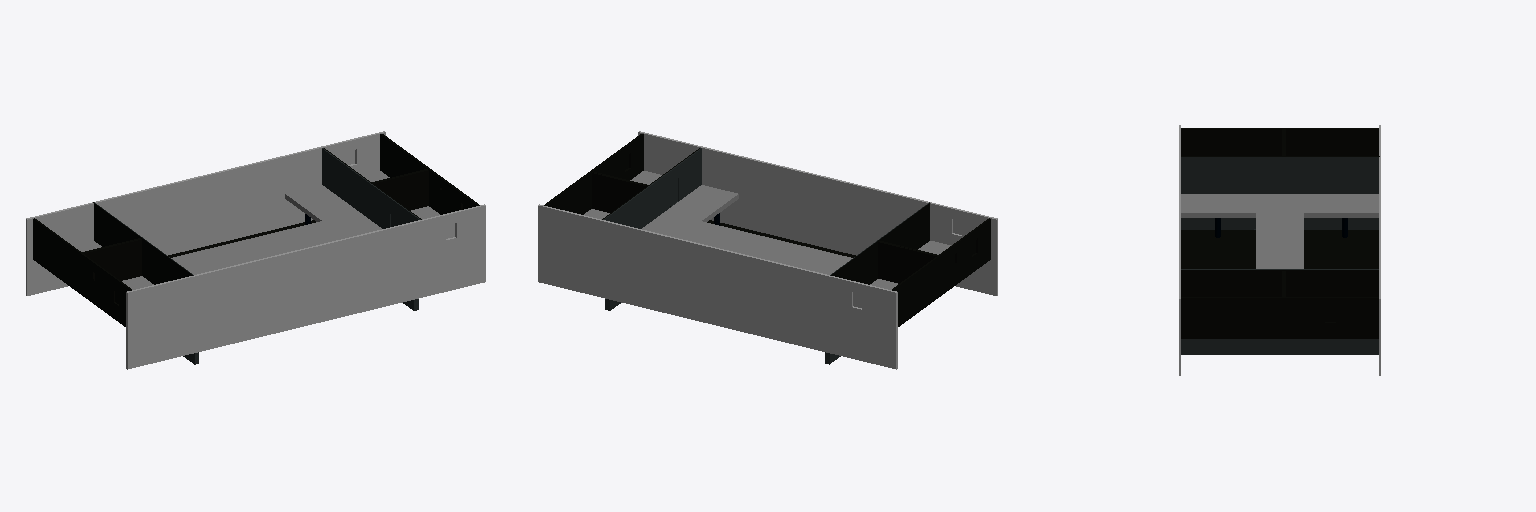
Rendered from cameralvl2-1.obj.
The picture shows the model from 3 angles: view 1: azimuth 30°, elevation 25°; view 2: azimuth 150°, elevation 25°; view 3: azimuth 270°, elevation 25°; orthographic projection.
Parts seen in each view (by area): view 1: Perete_mare2.001_Cube.009, Perete_mare2_Cube.001, Cube.004, Cube.002_Cube.008, Cube.007_Cube.011, Cube.001_Cube.007, Cube.003_Cube, Cube.005_Cube.017, Cube.010_Cube.014, Cube.011_Cube.015; view 2: Perete_mare2_Cube.001, Perete_mare2.001_Cube.009, Cube.004, Cube.002_Cube.008, Cube.007_Cube.011, Cube.001_Cube.007, Cube.003_Cube, Cube.005_Cube.017, Cube.009_Cube.013, Cube.012_Cube.016; view 3: Cube.003_Cube, Cube.006_Cube.019, Podea_Plane, Cube.004, Cube.008_Cube.012, Cube_Cube.006, Perete_Mic_Cube.003, Cube.002_Cube.008, Perete_Mic.001_Cube.005.
Part boxes in pixels (x1,y1,x2,y2): Perete_mare2.001_Cube.009: (126,204,485,369); Perete_mare2_Cube.001: (26,131,385,295); Cube.004: (33,218,131,326); Cube.002_Cube.008: (171,221,344,274); Cube.007_Cube.011: (322,148,420,228); Cube.001_Cube.007: (285,171,439,237); Cube.003_Cube: (380,134,479,214); Cube.005_Cube.017: (93,202,192,284); Cube.010_Cube.014: (83,239,141,280); Cube.011_Cube.015: (373,170,428,210); Perete_mare2_Cube.001: (538,204,897,369); Perete_mare2.001_Cube.009: (638,131,997,295); Cube.004: (892,218,990,326); Cube.002_Cube.008: (679,221,852,274); Cube.007_Cube.011: (603,148,701,228); Cube.001_Cube.007: (584,171,738,237); Cube.003_Cube: (544,134,643,214); Cube.005_Cube.017: (831,203,929,284); Cube.009_Cube.013: (878,241,936,283); Cube.012_Cube.016: (592,172,646,212); Cube.003_Cube: (1181,297,1378,338); Cube.006_Cube.019: (1181,157,1378,193); Podea_Plane: (1181,230,1378,268); Cube.004: (1181,128,1378,155); Cube.008_Cube.012: (1181,270,1378,296); Cube_Cube.006: (1181,194,1378,217); Perete_Mic_Cube.003: (1181,339,1378,354); Cube.002_Cube.008: (1256,213,1303,268); Perete_Mic.001_Cube.005: (1181,218,1378,229).
Bounding box in the file's own units: 147 × 34.84 × 71.9.